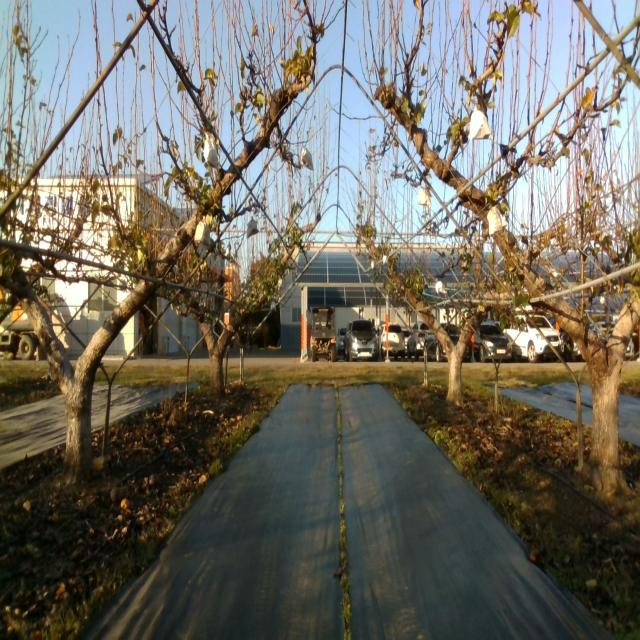pearbags: (469, 106, 491, 138), (487, 204, 507, 236), (204, 130, 219, 170), (193, 216, 210, 247), (300, 147, 314, 171), (418, 186, 432, 206), (246, 217, 259, 238)
